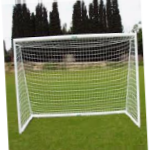goals: (12, 31, 143, 137)
